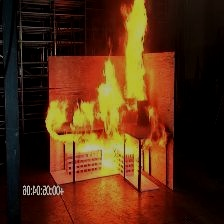fire: (44, 0, 168, 167)
